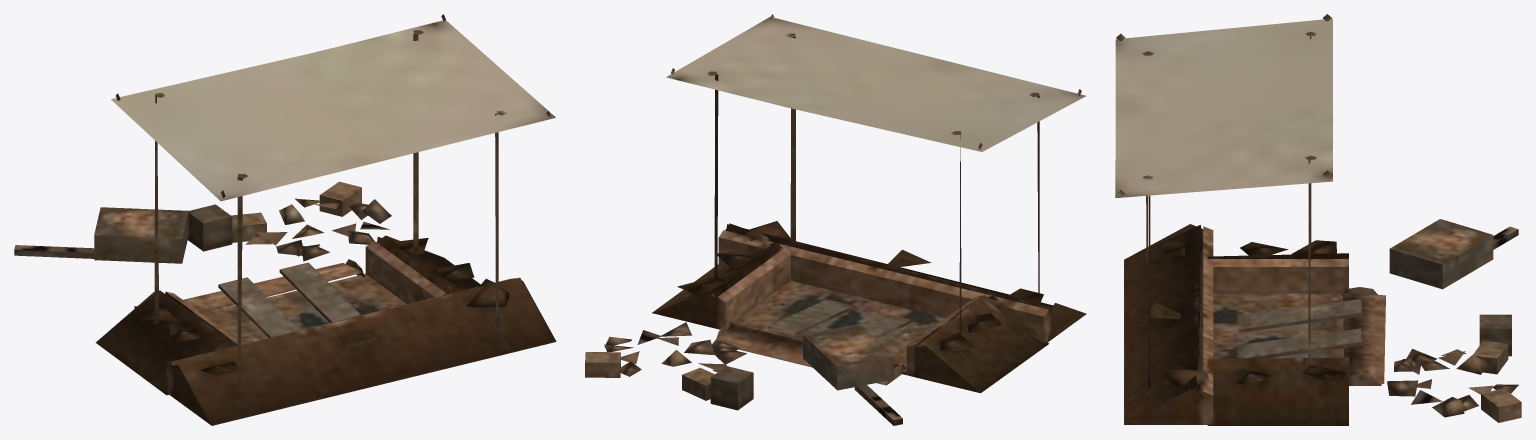
The model's file is b_claypit_xfar.glb.
The picture shows the model from 3 angles, left to right: view 1: azimuth 30°, elevation 25°; view 2: azimuth 150°, elevation 25°; view 3: azimuth 270°, elevation 25°; orthographic projection. The views are drawn at different scales.
Visible parts, largest first — view 1: b_claypit_xfar; view 2: b_claypit_xfar; view 3: b_claypit_xfar.
Part boxes in pixels (x1,y1,x2,y2): b_claypit_xfar: [14, 14, 556, 425]; b_claypit_xfar: [585, 14, 1086, 425]; b_claypit_xfar: [1115, 14, 1521, 425].
Size of the model in its own units: 3.65 by 2.54 by 3.74.
Materials: 1 (1 with a texture image).
